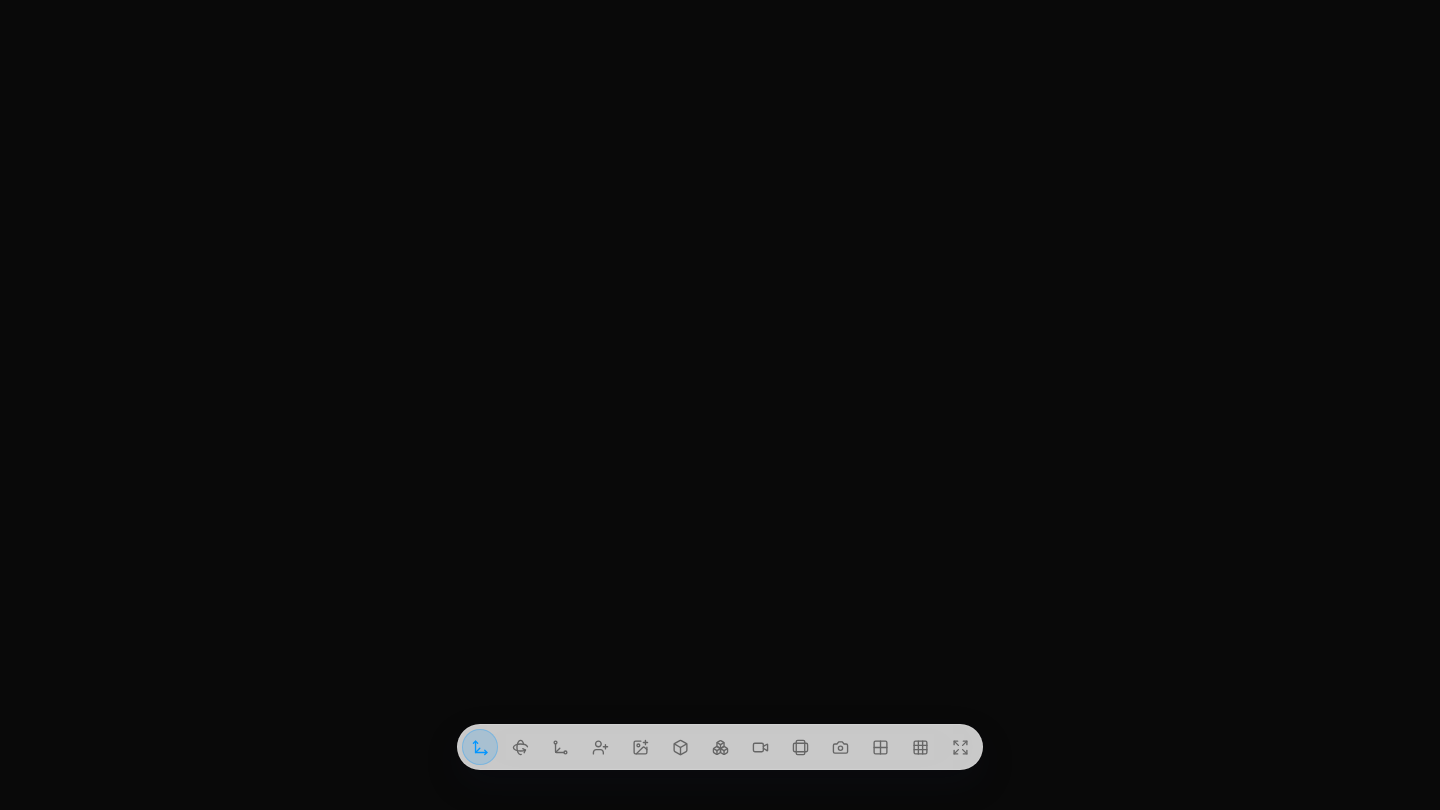
Test: shows a centered empty state with a local import action inside the my-models tab
What coordinates should you click on to do the following:
click the button named "模型库"
I would click on:
 (720, 747)
Its box is left=702, top=729, right=738, bottom=765.
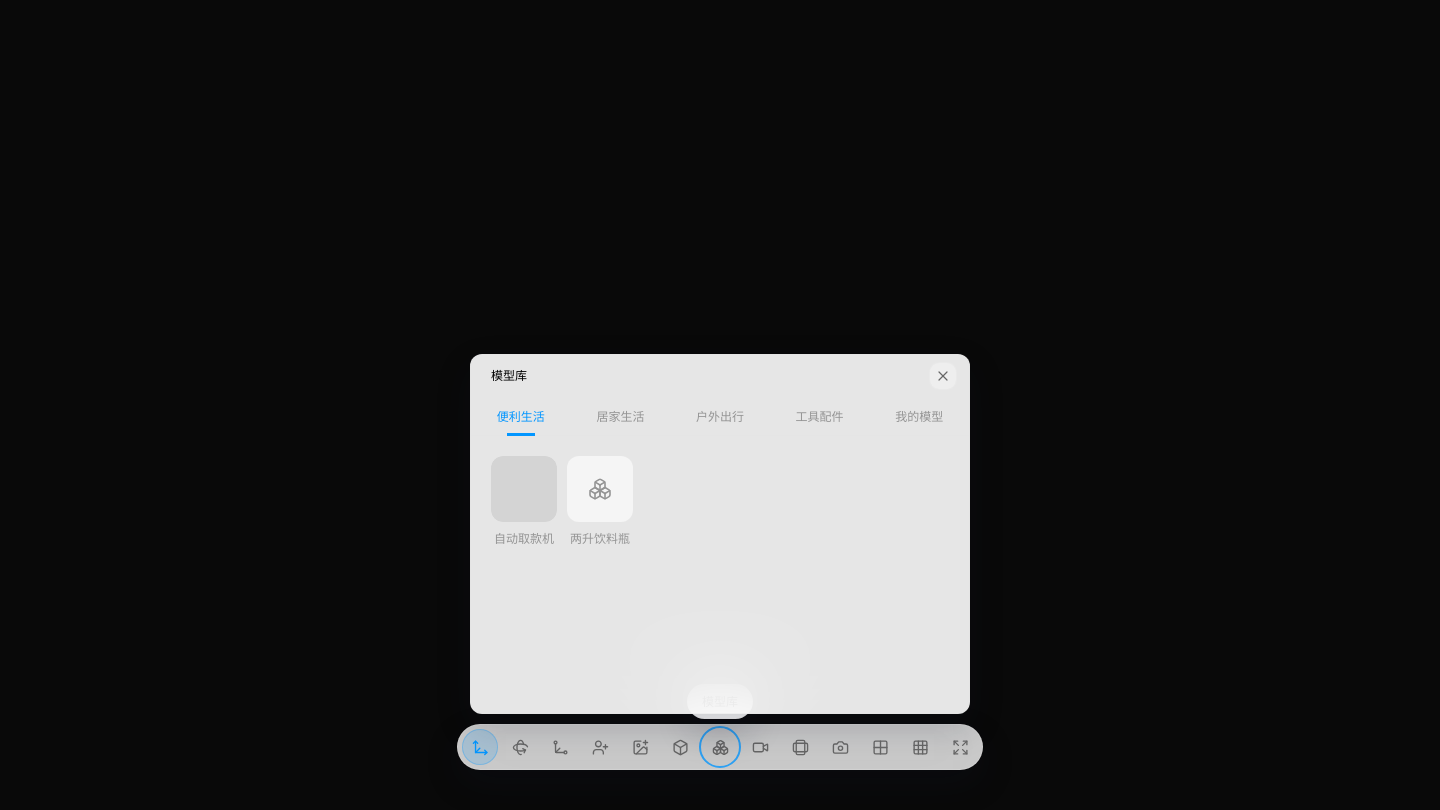
What coordinates should you click on to do the following:
click the tab "我的模型"
I would click on:
 (919, 416)
Its box is left=869, top=396, right=969, bottom=436.
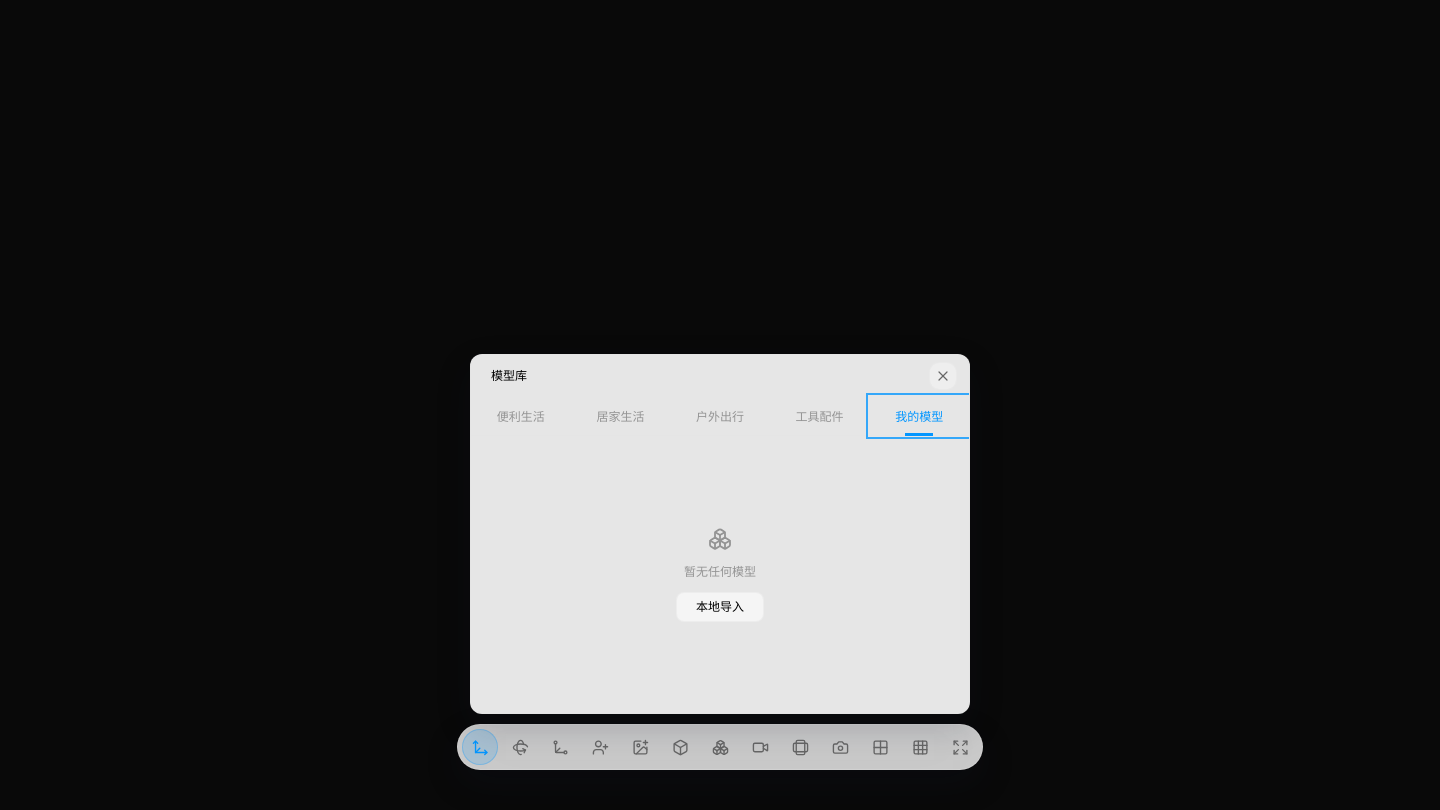
Expected: the message "暂无任何模型" is shown, left=676, top=526, right=764, bottom=622
Expected: the button "本地导入" is shown, left=676, top=592, right=764, bottom=622
